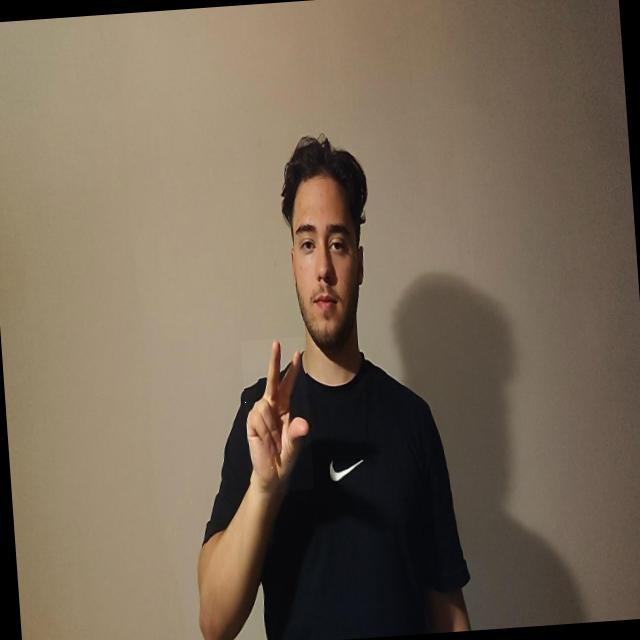no: (240, 336, 316, 493)
